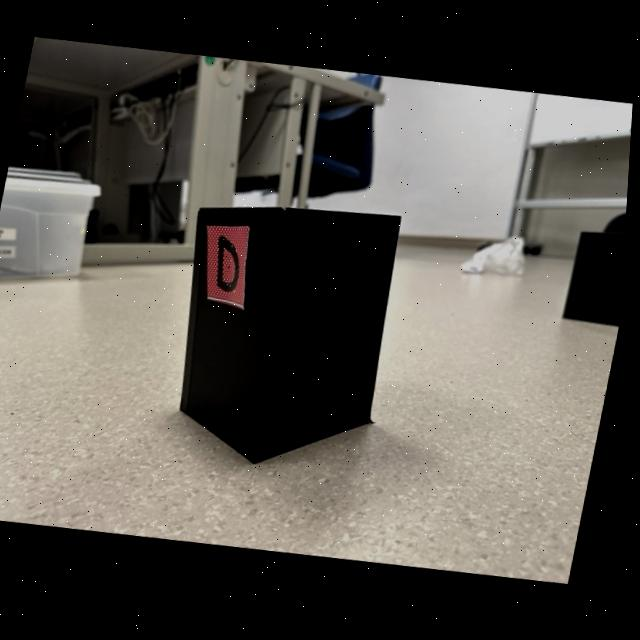D: (220, 238, 243, 293)
